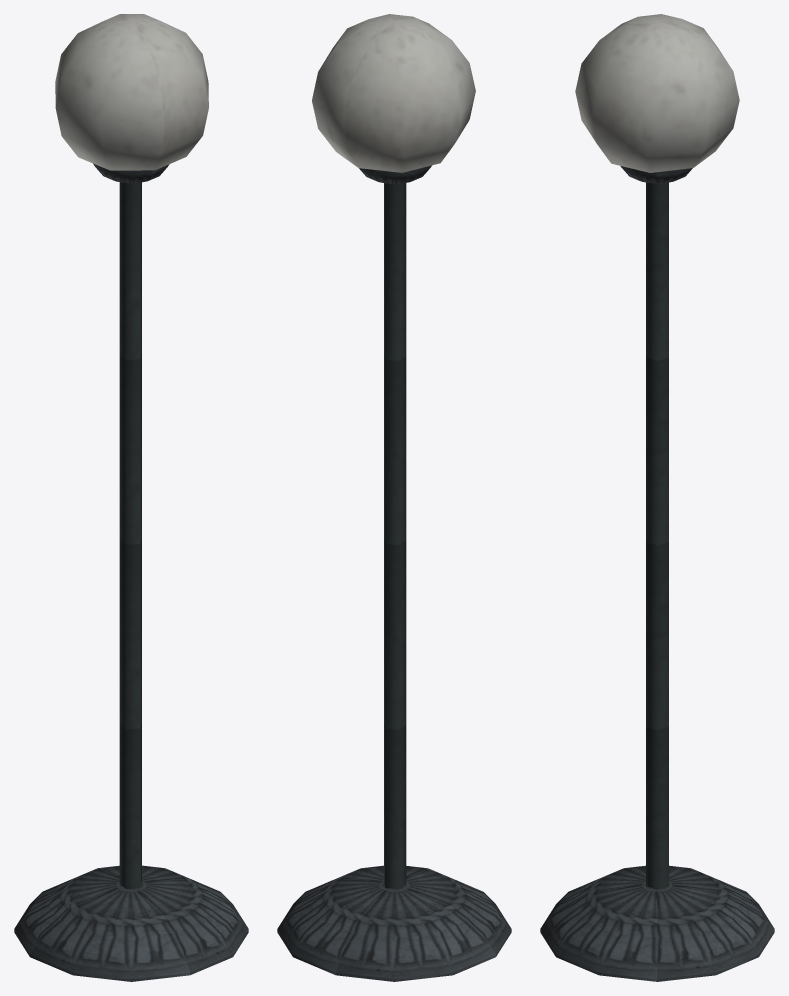
Rendered from lamp_02_floor_lamp.fbx.
3 views of the same model, side by side, from view 1: azimuth 30°, elevation 25°; view 2: azimuth 150°, elevation 25°; view 3: azimuth 270°, elevation 25° (orthographic).
Visible parts, largest first — view 1: lamp_02_floor_lamp; view 2: lamp_02_floor_lamp; view 3: lamp_02_floor_lamp.
Part boxes in pixels (x1,y1,x2,y2): lamp_02_floor_lamp: (14, 14, 248, 981); lamp_02_floor_lamp: (277, 14, 511, 981); lamp_02_floor_lamp: (540, 14, 774, 981).
Bounding box in the file's own units: 48.51 × 208 × 48.51.
